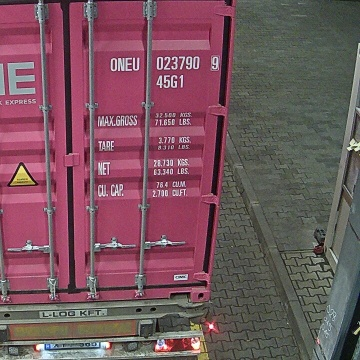serial_id: (110, 56, 218, 71)
